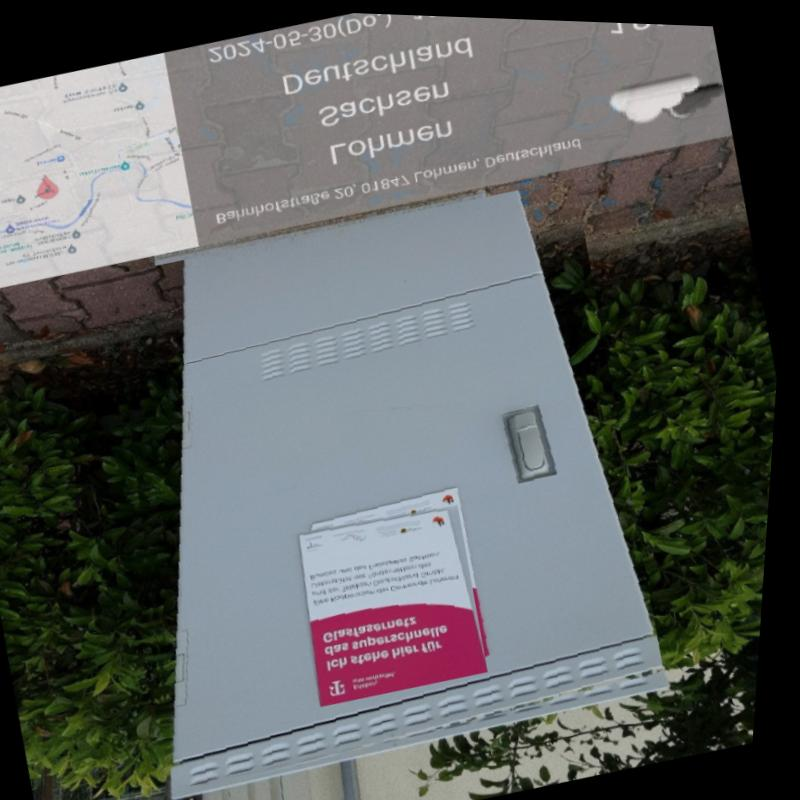NT-Gehause: (184, 187, 672, 794)
Steaker: (309, 500, 497, 703)
